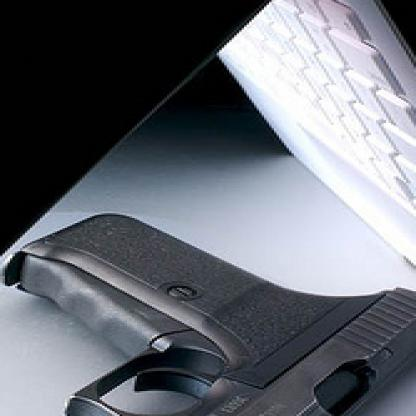gun: (0, 203, 414, 414)
